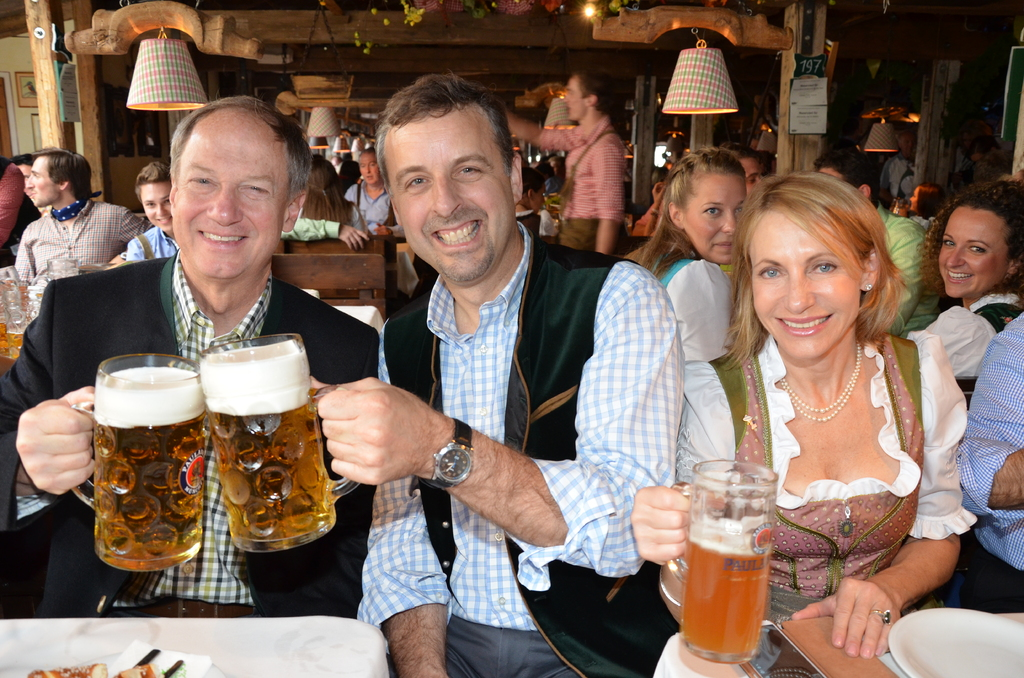Beer: (197, 340, 336, 553), (92, 362, 202, 571), (673, 518, 764, 655)
